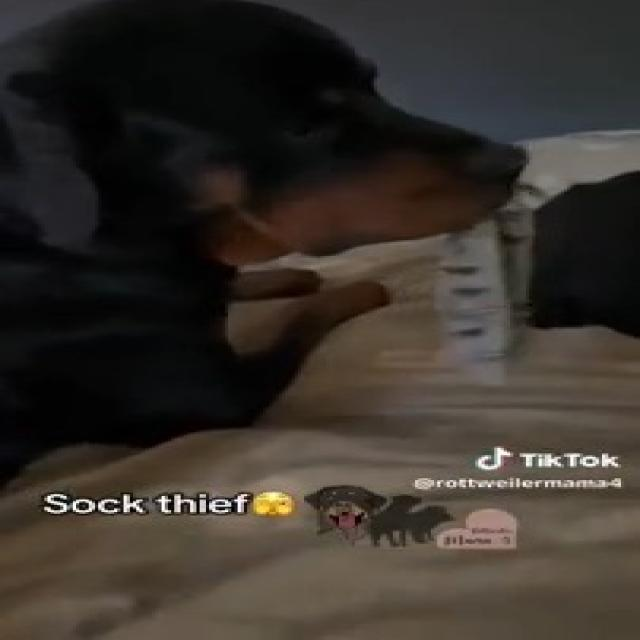dogs: (5, 4, 534, 478)
